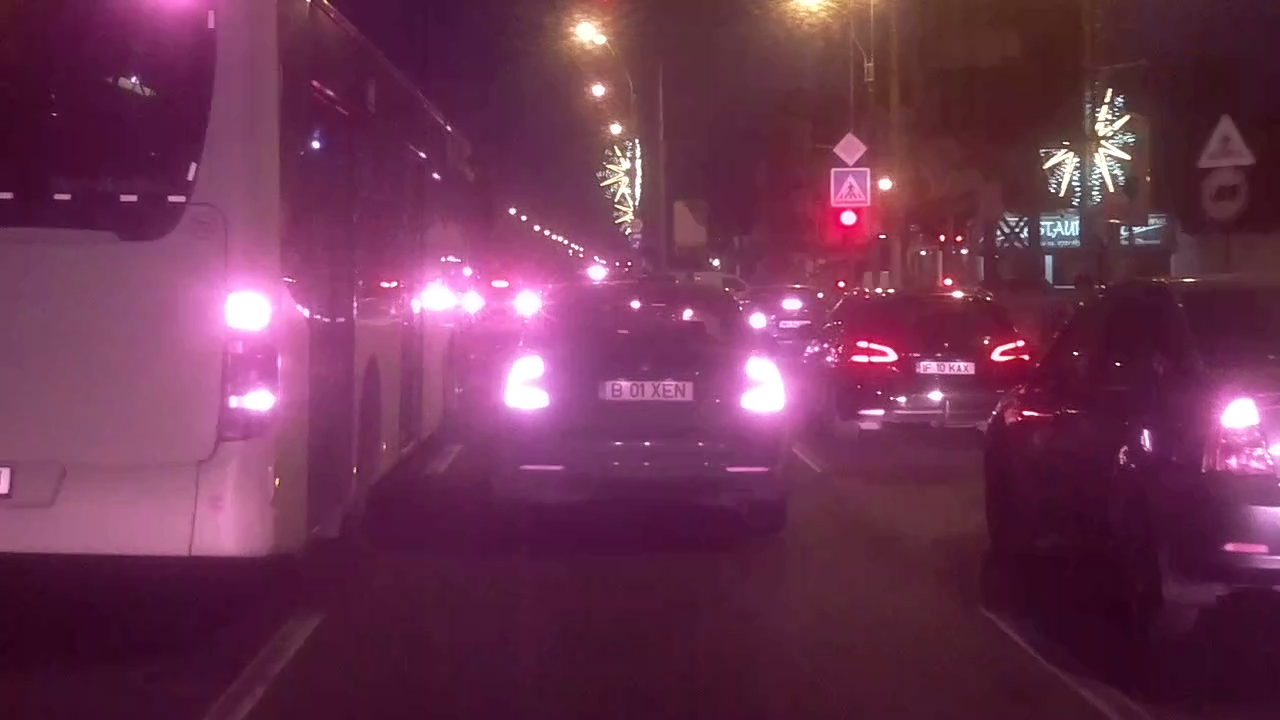license-plate: (595, 376, 696, 404), (912, 358, 977, 377)
